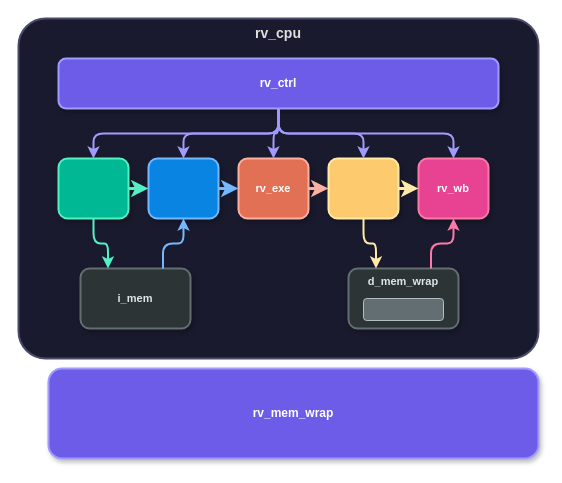
This 562x483 diagram has some shape labels left out. The centre of each missing label's shape, as x and y in pixels:
"d_mem" goes at point 403,309.
"rv_decode" goes at point 184,189.
"rv_if (fetch)" goes at point 94,189.
"rv_ma (mem)" goes at point 364,189.
